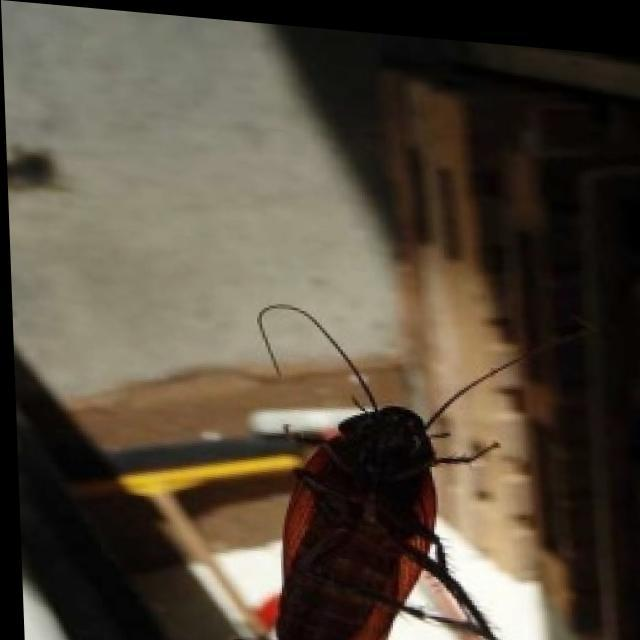cockroach: (274, 404, 446, 638)
